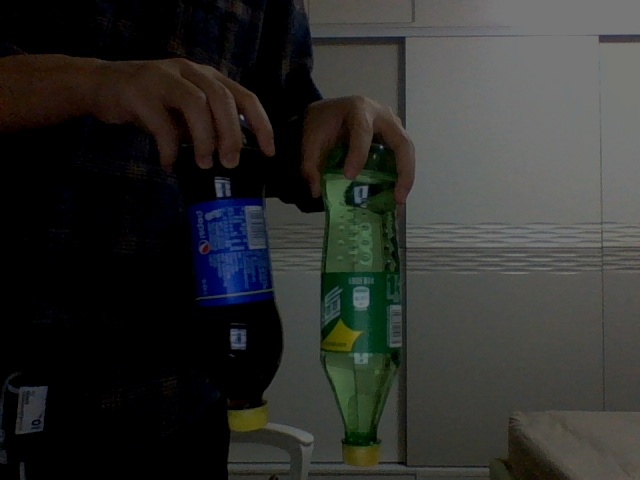Cola: (185, 135, 284, 432)
Sprite: (317, 143, 405, 468)
